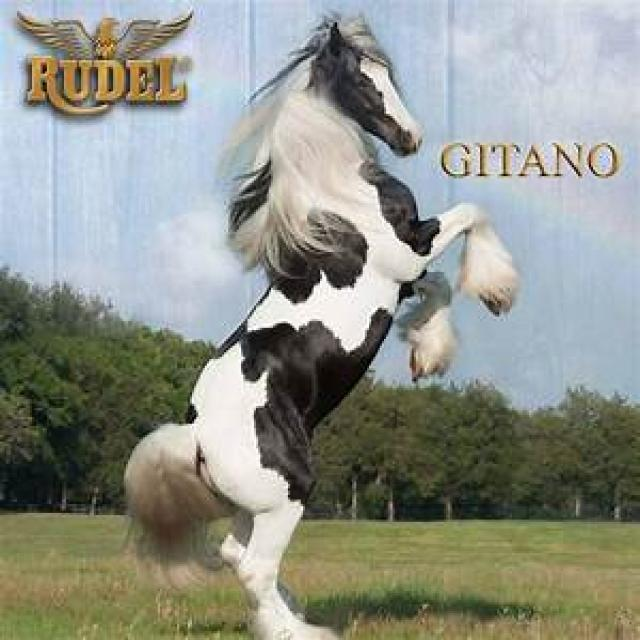horse: (128, 16, 521, 640)
